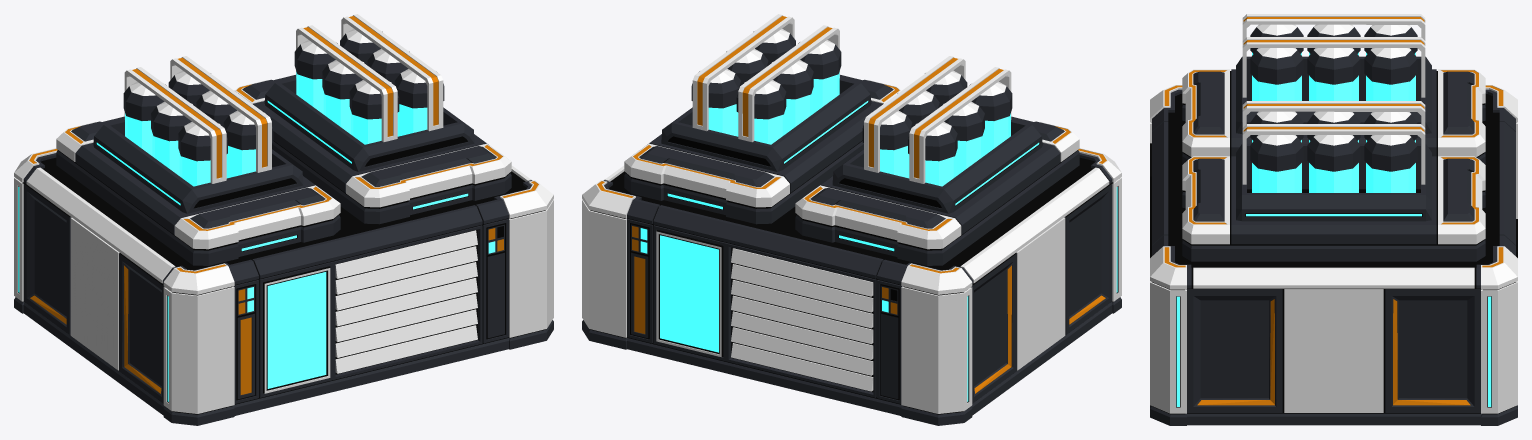
The model's file is SM_Battery_T2.fbx.
3 views of the same model, side by side, from view 1: azimuth 30°, elevation 25°; view 2: azimuth 150°, elevation 25°; view 3: azimuth 270°, elevation 25° (orthographic). The views are drawn at different scales.
Visible parts, largest first — view 1: SM_Battery_T2; view 2: SM_Battery_T2; view 3: SM_Battery_T2.
Part boxes in pixels (<box>): SM_Battery_T2: <box>14,14,553,425</box>; SM_Battery_T2: <box>582,14,1121,425</box>; SM_Battery_T2: <box>1150,14,1517,425</box>.
Bounding box in the file's own units: 250 × 154 × 200.
